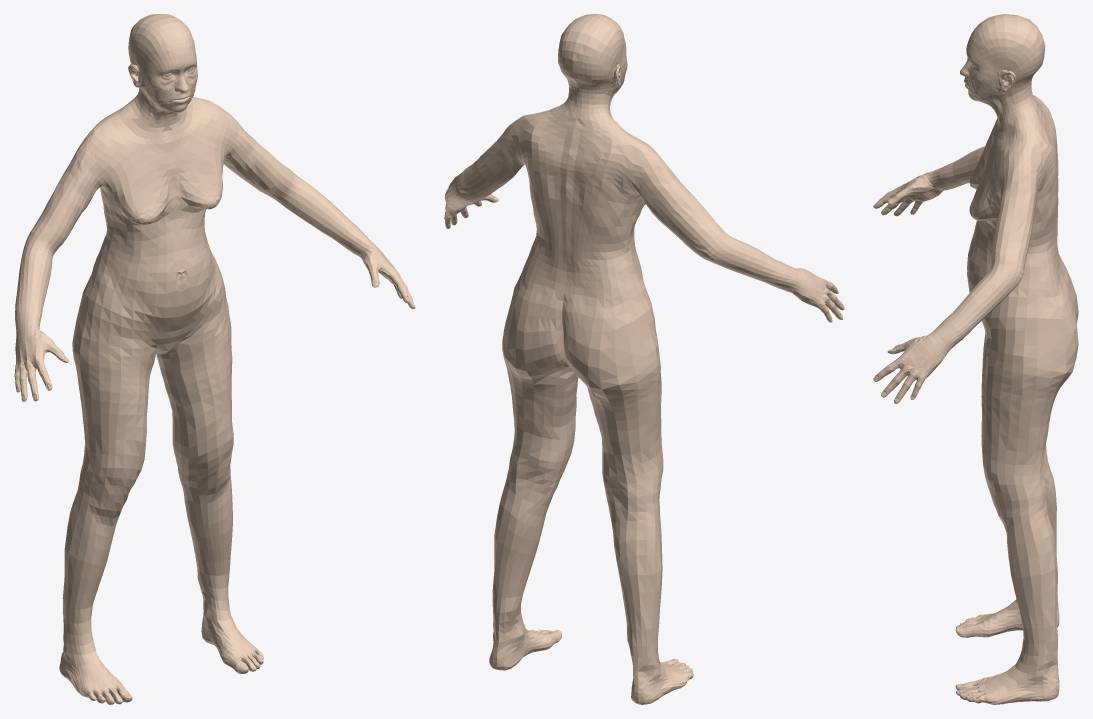
Rendered from female-elder-max-medium.glb.
3 renders of one model, left to right at view 1: azimuth 30°, elevation 25°; view 2: azimuth 150°, elevation 25°; view 3: azimuth 270°, elevation 25°, orthographic.
Parts seen in each view (by area): view 1: world; view 2: world; view 3: world.
Boxes of the visible parts, x1,y1,x2,y2 form: world: (14, 14, 415, 704); world: (444, 14, 844, 704); world: (873, 14, 1078, 704).
Size of the model in its own units: 1.13 by 1.8 by 0.5186.
